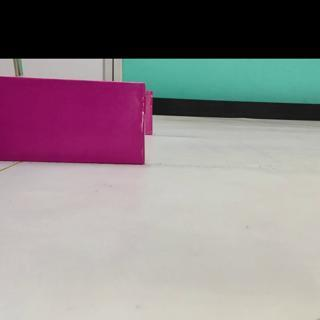xparking: (4, 85, 144, 165)
